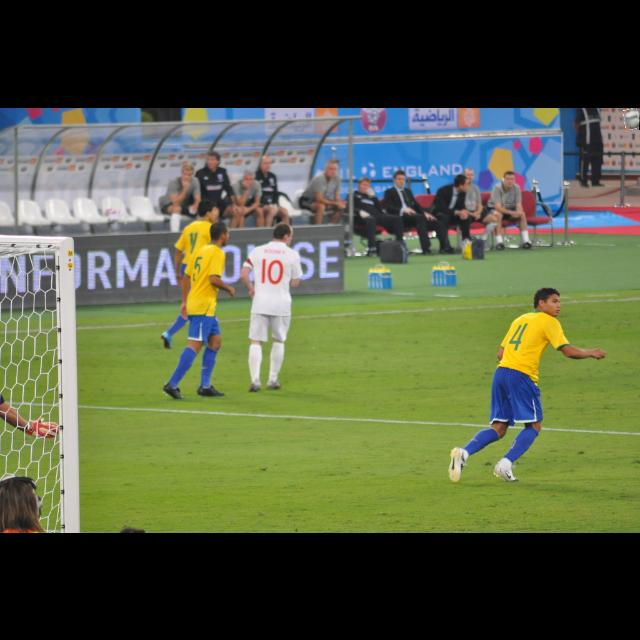Football: (624, 108, 640, 130)
